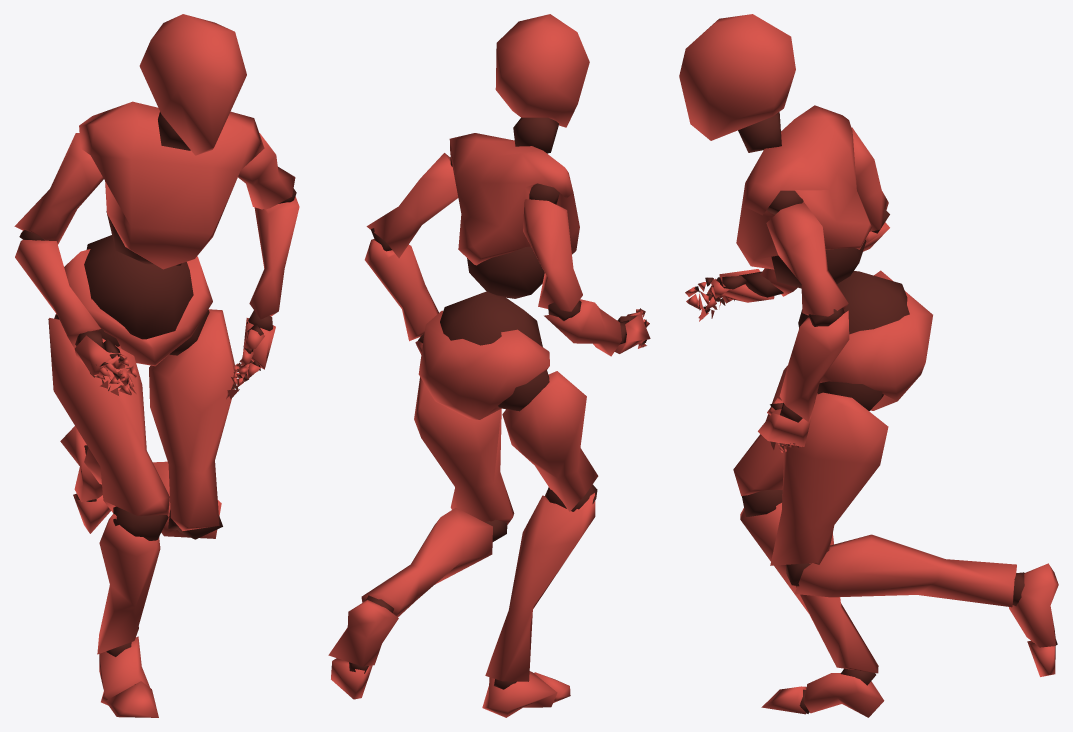
3 views of the same model, side by side, from view 1: azimuth 30°, elevation 25°; view 2: azimuth 150°, elevation 25°; view 3: azimuth 270°, elevation 25° (orthographic). The views are drawn at different scales.
Parts seen in each view (by area): view 1: Beta_Surface; view 2: Beta_Surface; view 3: Beta_Surface.
Part boxes in pixels (x1,y1,x2,y2): Beta_Surface: (14,14,299,717); Beta_Surface: (328,14,650,717); Beta_Surface: (679,14,1058,717).
Size of the model in its own units: 5.43 by 14.23 by 6.91.
